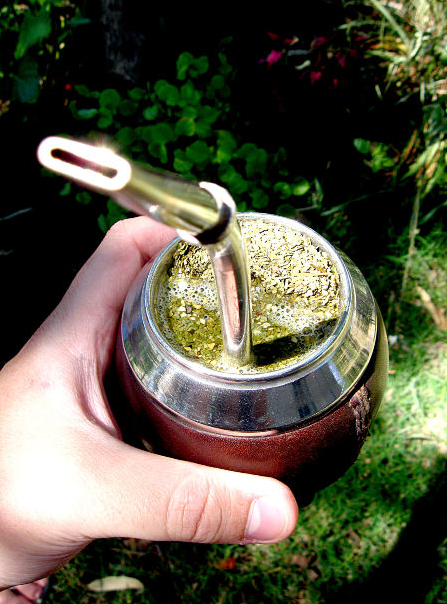guampa: (15, 132, 394, 510)
